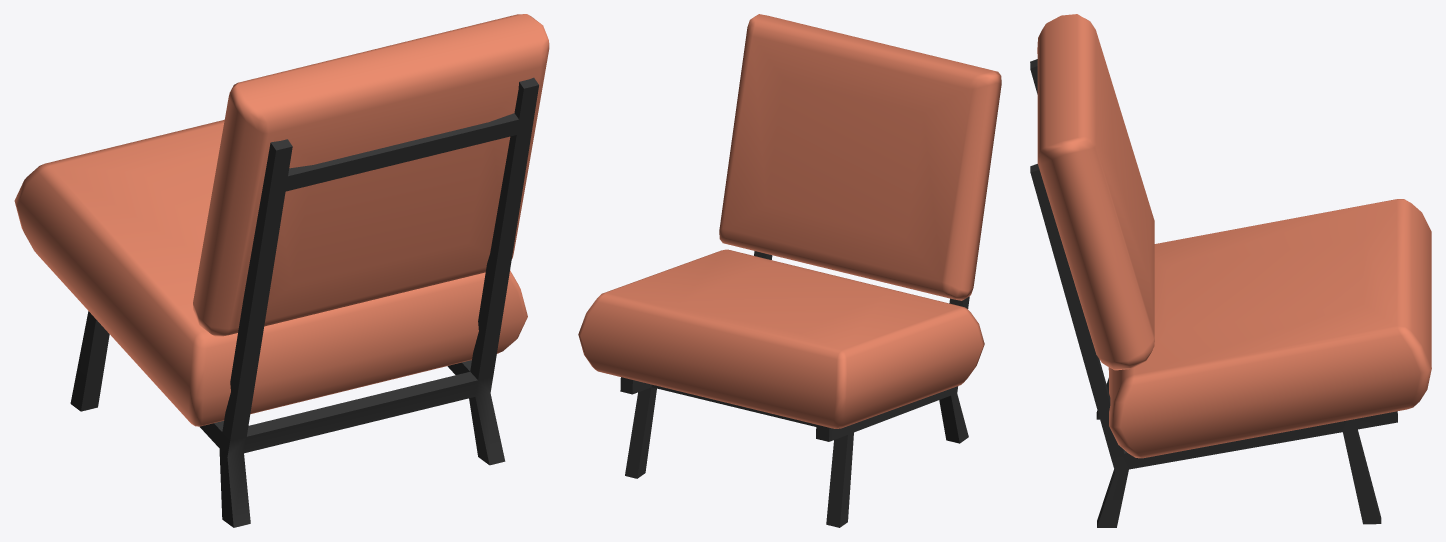
The model's file is LobbySeat.fbx.
3 views of the same model, side by side, from view 1: azimuth 30°, elevation 25°; view 2: azimuth 150°, elevation 25°; view 3: azimuth 270°, elevation 25° (orthographic). The views are drawn at different scales.
Visible parts, largest first — view 1: Seat; view 2: Seat; view 3: Seat.
Boxes of the visible parts, x1=… form: Seat: x1=14, y1=14, x2=549, y2=527; Seat: x1=578, y1=14, x2=1001, y2=527; Seat: x1=1030, y1=14, x2=1431, y2=527.
Size of the model in its own units: 15.89 by 20.45 by 18.85.
